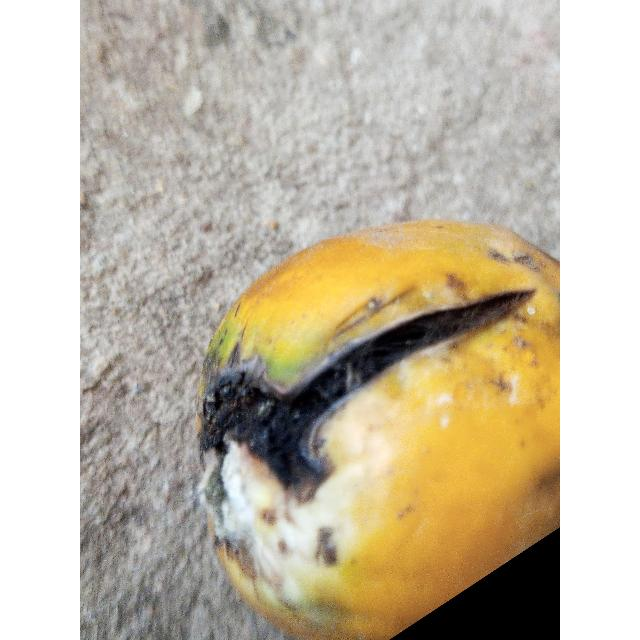damaged: (198, 220, 560, 640)
